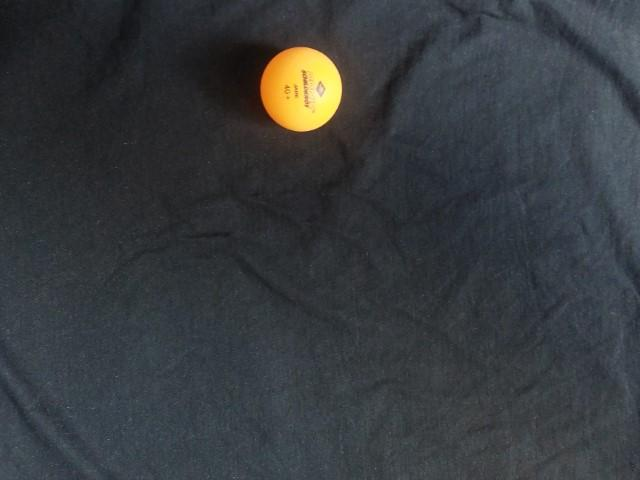oball: (288, 340, 384, 438)
